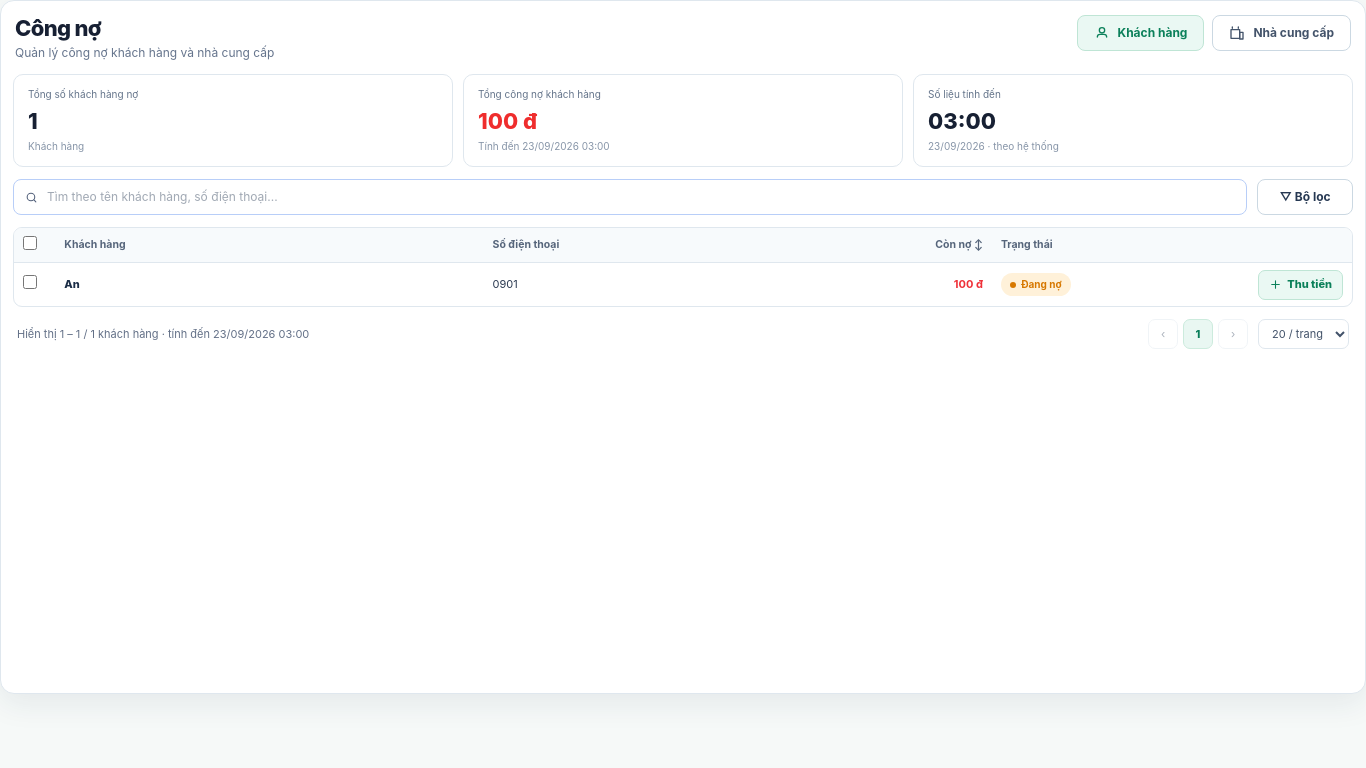
DebtManagementView payment safety › reloads stale debt and never automatically resubmits it
The width and height of the screenshot is (1366, 768).
Click the button with class "debt-row-pay": (1301, 285) [1258,270,1343,300]
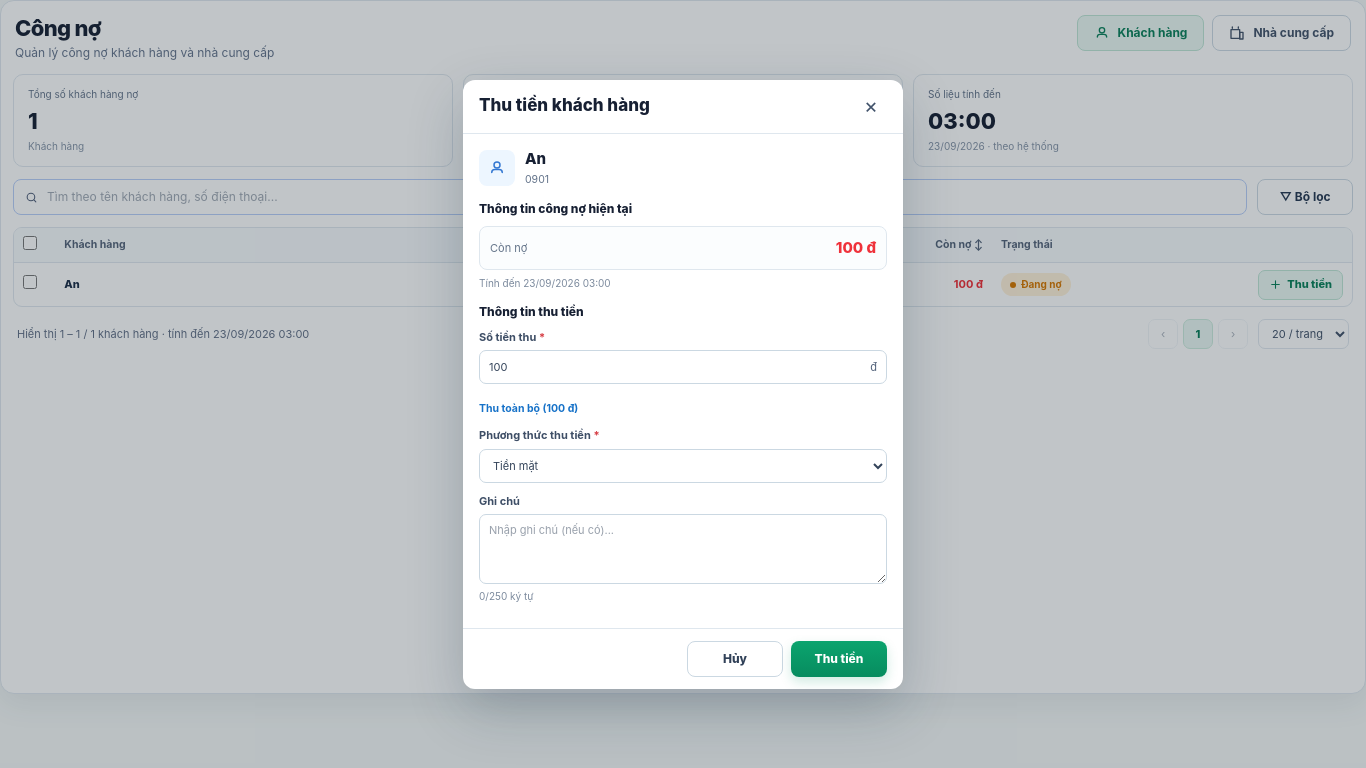
Replace the text in the number field labelled "Số tiền thu * đ" with "30": (683, 367) [479,350,887,384]
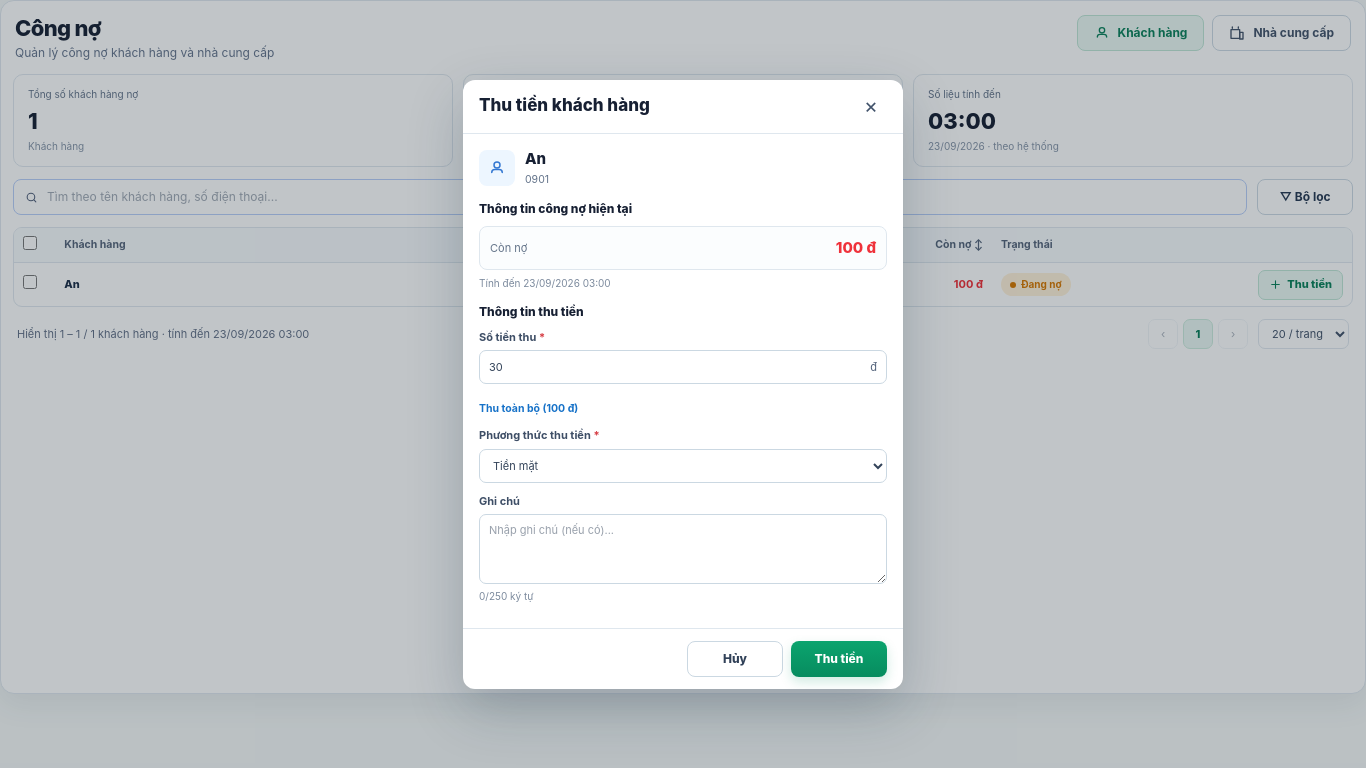
Click the button with class "debt-primary": (839, 658) [791,640,887,676]
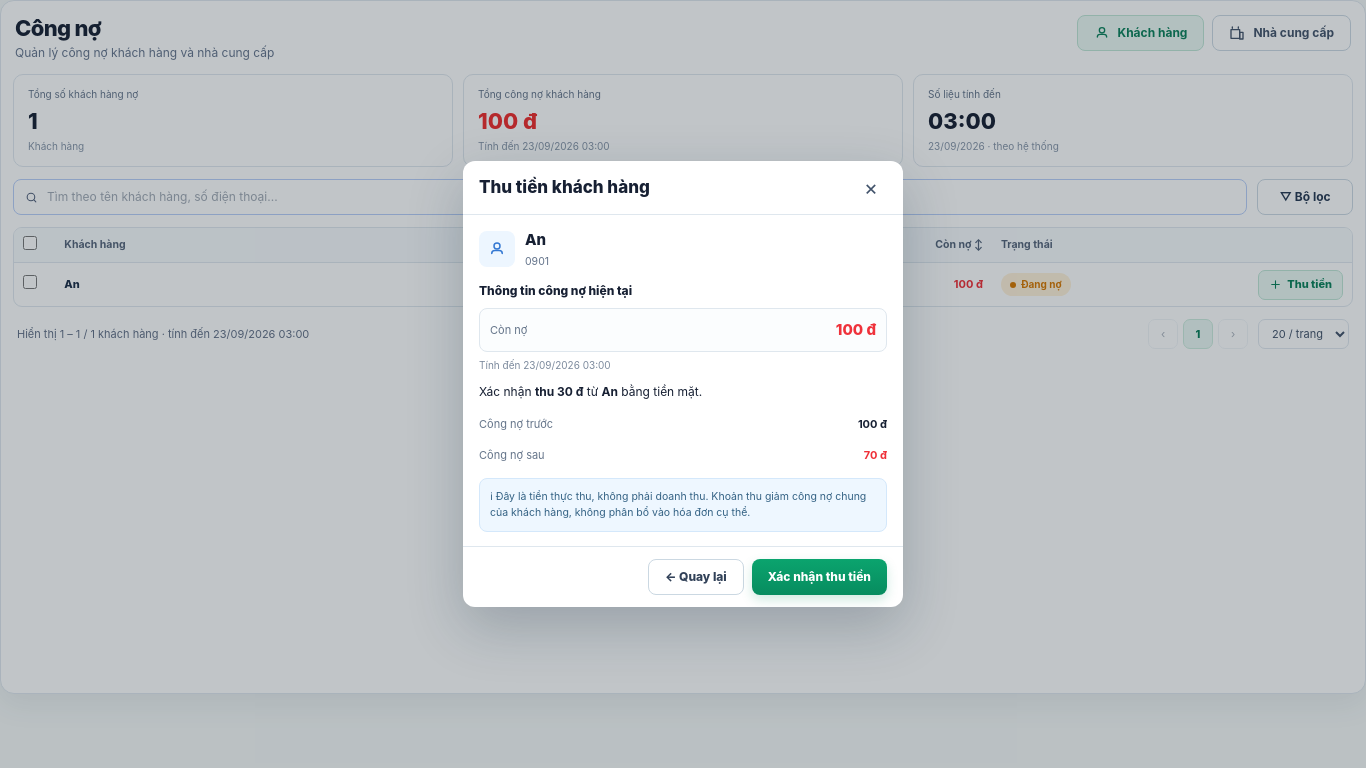
Click the button with class "debt-primary": (819, 577) [752,559,887,595]
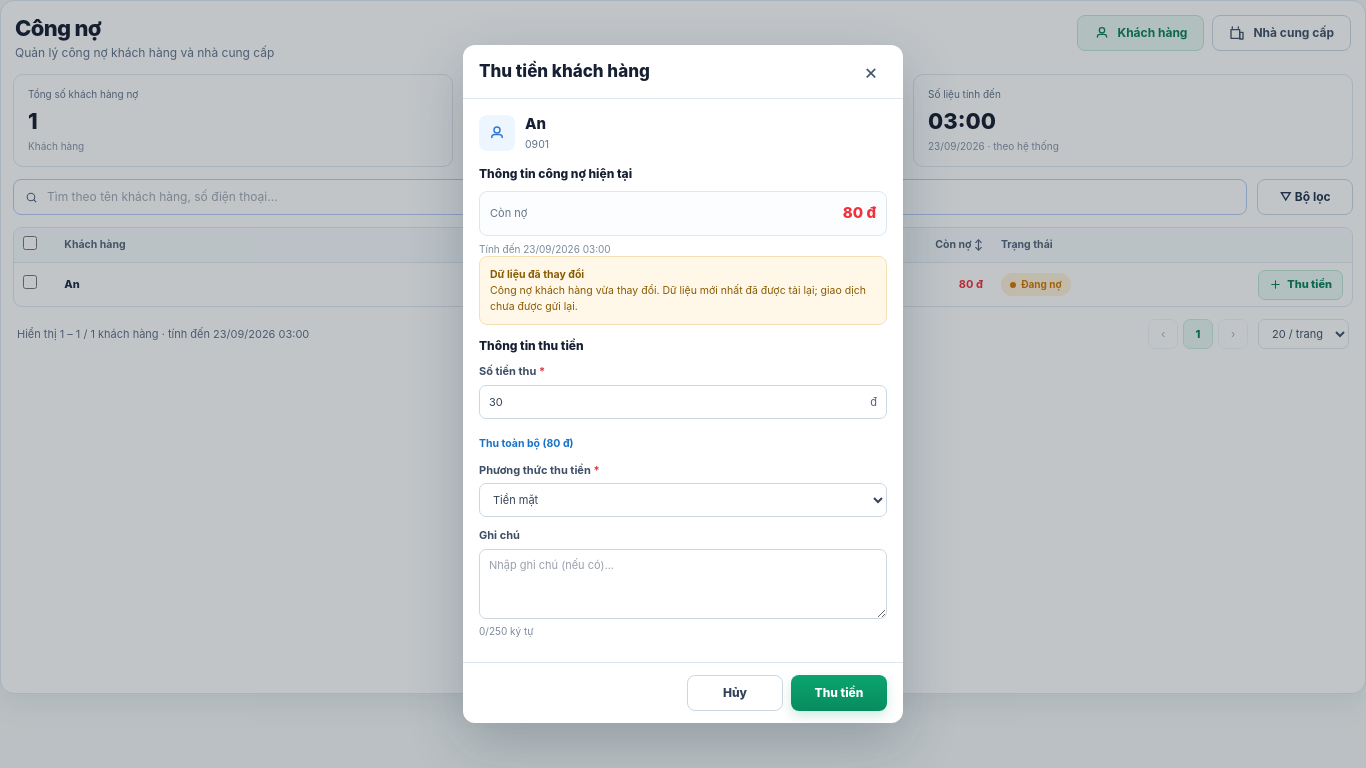
Expected: the dialog named "Thu tiền khách hàng" shows "Dữ liệu đã thay đổi", [490,268,584,281]
Expected: the dialog named "Thu tiền khách hàng" shows "giao dịch chưa được gửi lại", [490,284,866,313]
Expected: the element with class "debt-amount-box" shows "80 đ", [843,203,876,222]
